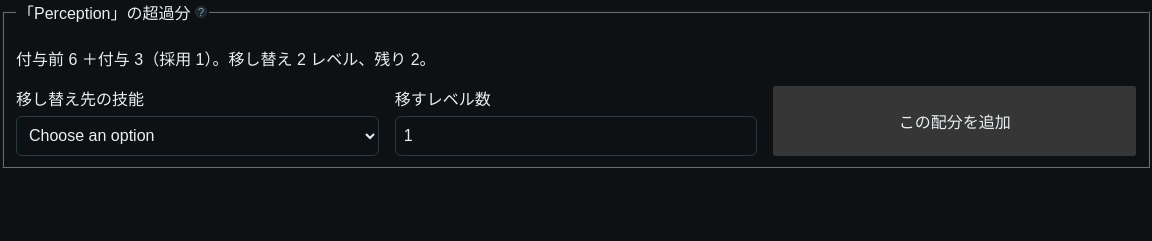
Test: retains the draft after a failed save
Select "Navigation (INT, +2)" in the dropdown. click: (197, 136)
box: [16,116,379,156]
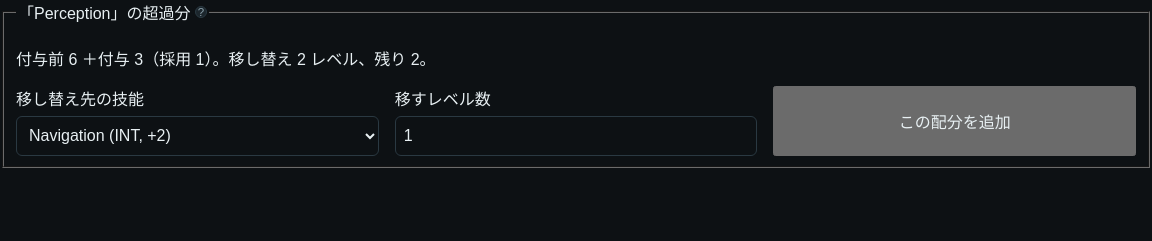
Click the button "この配分を追加". click: (955, 121)
box: [773,86,1136,156]
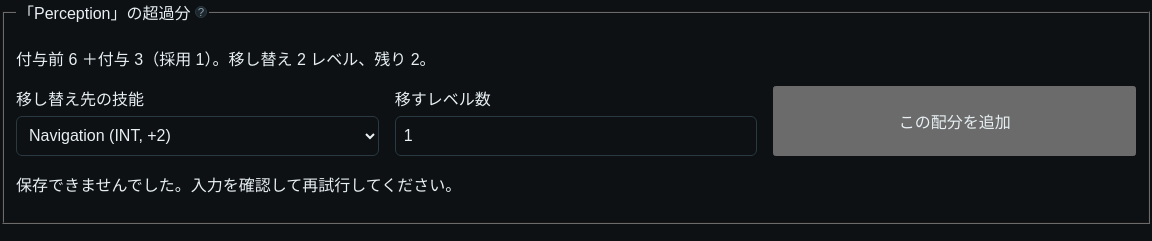
Result: the message "保存できませんでした。入力を確認して再試行してください。" is shown at [16,177,461,194]
